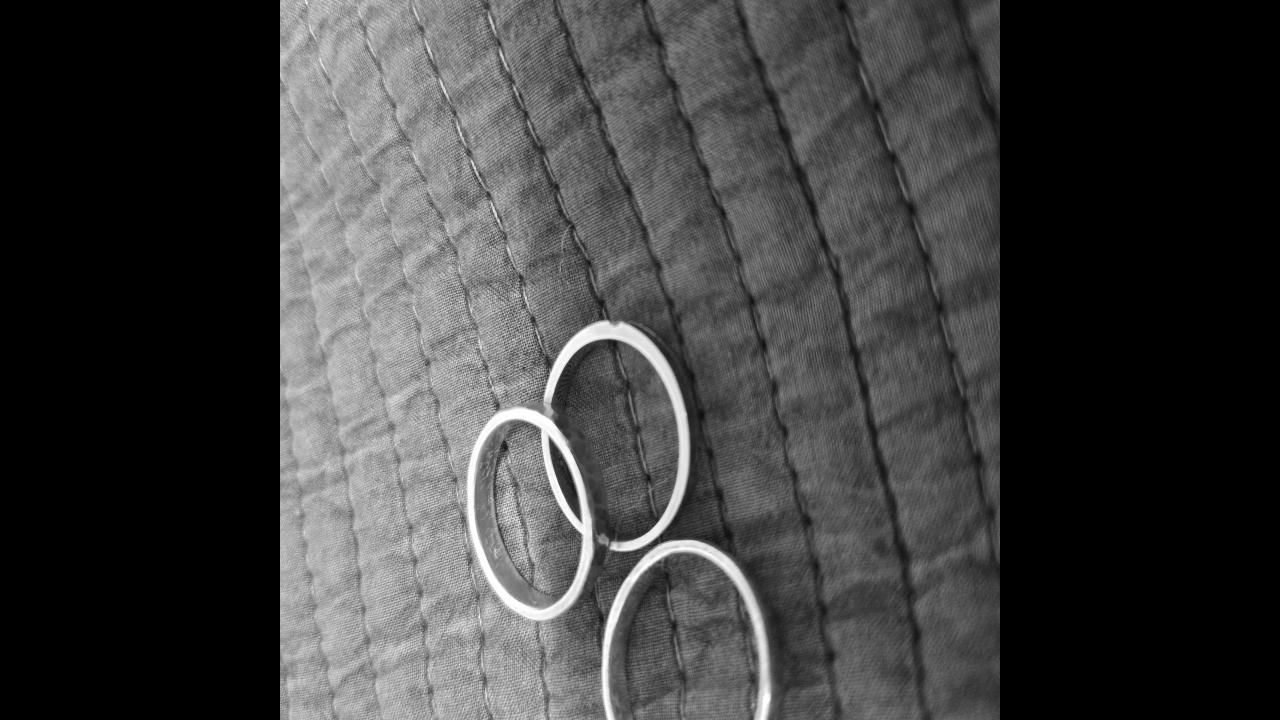ring: (548, 314, 699, 550), (464, 394, 606, 624), (604, 534, 774, 720)
